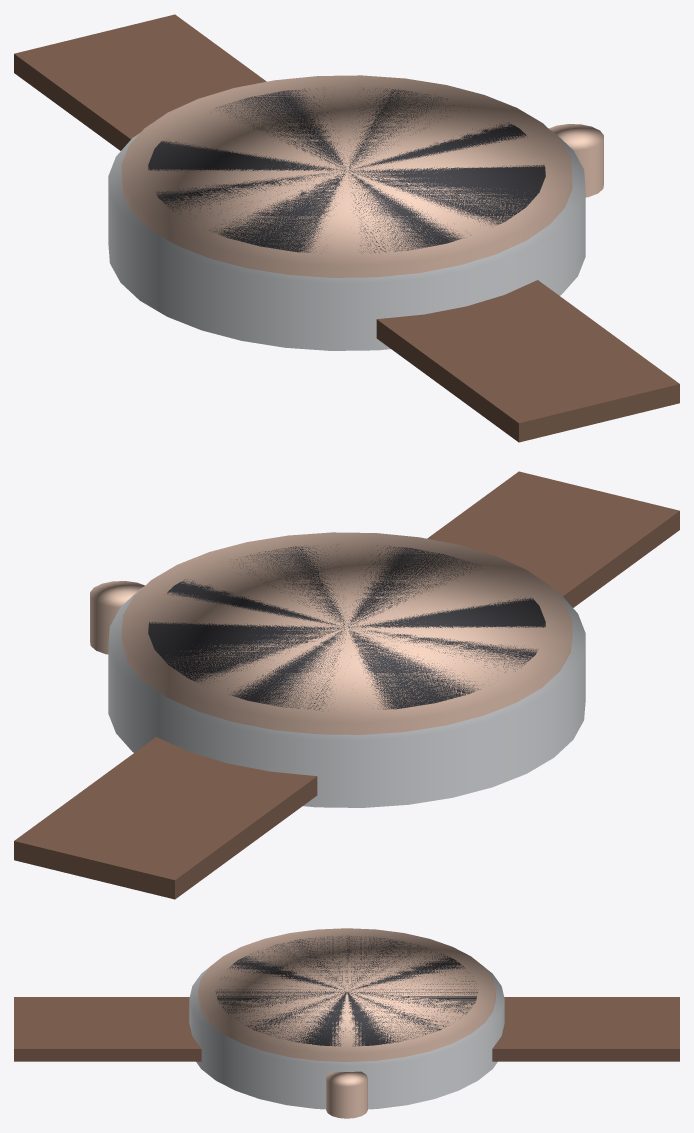
Rendered from chronoprecision_titan_watch.glb.
3 renders of one model, top to bottom at view 1: azimuth 30°, elevation 25°; view 2: azimuth 150°, elevation 25°; view 3: azimuth 270°, elevation 25°, orthographic. The views are drawn at different scales.
Visible parts, largest first — view 1: Outer_Bezel, Watch_Case, Main_Dial, Strap_Top, Strap_Bottom, Winding_Crown; view 2: Outer_Bezel, Watch_Case, Main_Dial, Strap_Bottom, Strap_Top, Winding_Crown; view 3: Outer_Bezel, Watch_Case, Main_Dial, Strap_Top, Strap_Bottom, Winding_Crown.
Boxes of the visible parts, bbox=[...] form: Outer_Bezel: bbox=[121, 75, 572, 277]; Watch_Case: bbox=[108, 130, 585, 350]; Main_Dial: bbox=[148, 88, 545, 253]; Strap_Top: bbox=[376, 280, 679, 442]; Strap_Bottom: bbox=[14, 14, 266, 150]; Winding_Crown: bbox=[549, 124, 603, 197]; Outer_Bezel: bbox=[121, 532, 572, 734]; Watch_Case: bbox=[108, 587, 585, 807]; Main_Dial: bbox=[148, 544, 545, 710]; Strap_Bottom: bbox=[14, 737, 317, 899]; Strap_Top: bbox=[427, 471, 679, 607]; Winding_Crown: bbox=[90, 581, 144, 654]; Outer_Bezel: bbox=[198, 928, 495, 1061]; Watch_Case: bbox=[189, 968, 504, 1109]; Main_Dial: bbox=[215, 935, 477, 1046]; Strap_Top: bbox=[14, 997, 201, 1061]; Strap_Bottom: bbox=[492, 997, 679, 1061]; Winding_Crown: bbox=[326, 1071, 367, 1118].
Bounding box in the file's own units: 2 × 0.33 × 3.8.
